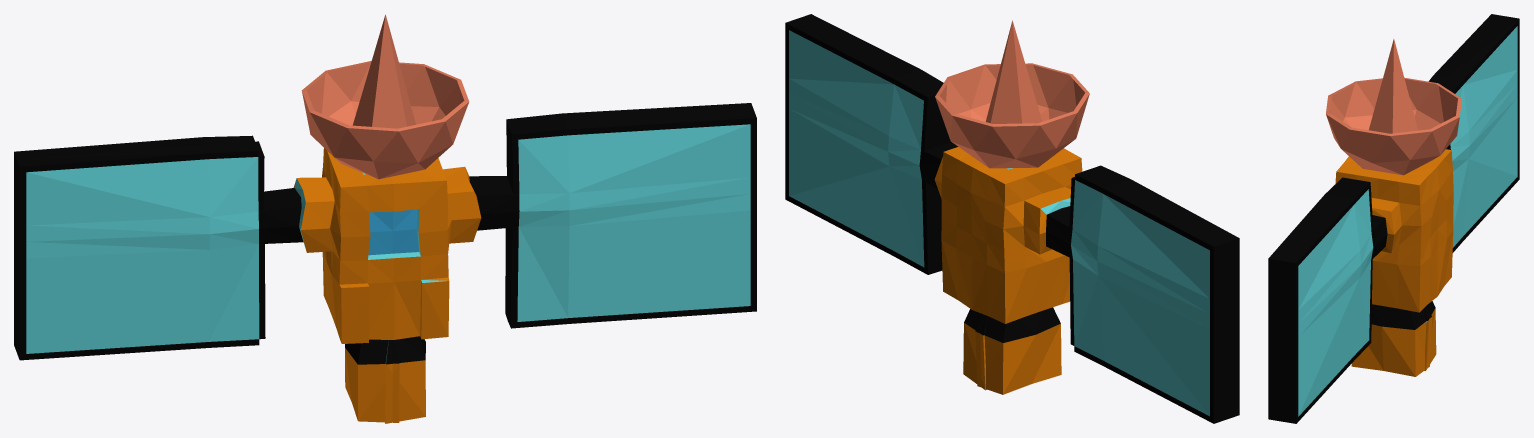
Rendered from SATALLITE.fbx.
The picture shows the model from 3 angles, left to right: view 1: azimuth 30°, elevation 25°; view 2: azimuth 150°, elevation 25°; view 3: azimuth 270°, elevation 25°; orthographic projection. The views are drawn at different scales.
Parts seen in each view (by area): view 1: Cube; view 2: Cube; view 3: Cube.
Boxes of the visible parts, x1,y1,x2,y2 form: Cube: [14, 14, 756, 423]; Cube: [785, 14, 1239, 423]; Cube: [1268, 14, 1519, 423].
Bounding box in the file's own units: 1321 × 807 × 563.
